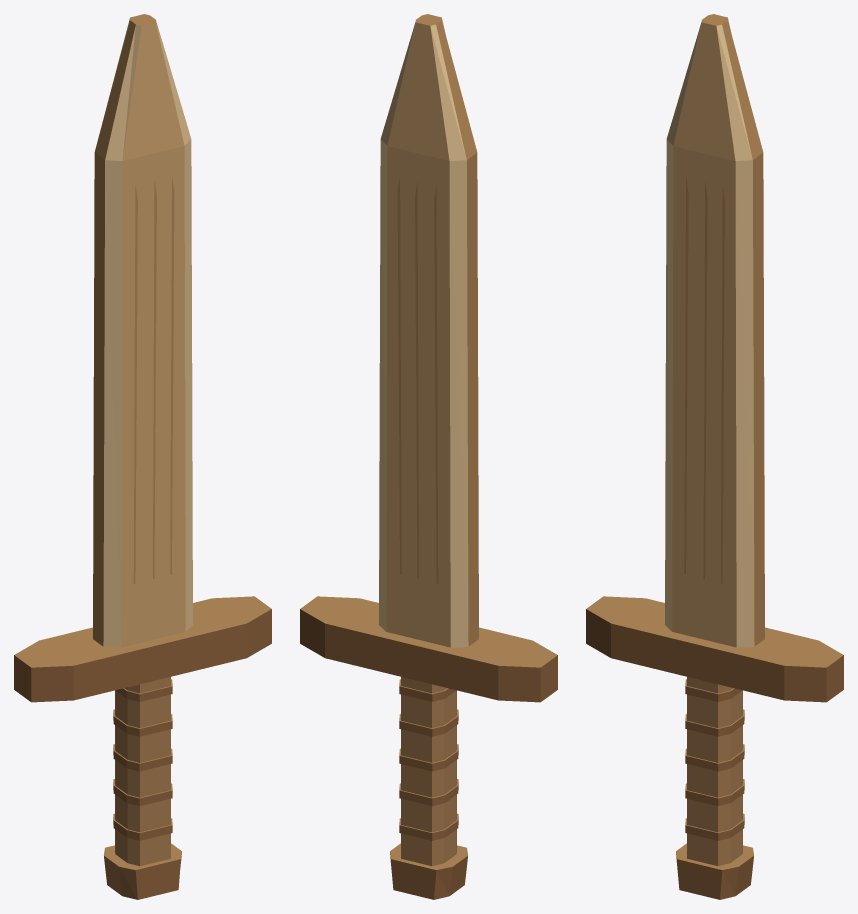
The model's file is wooden_sword.gltf.
3 renders of one model, left to right at view 1: azimuth 30°, elevation 25°; view 2: azimuth 150°, elevation 25°; view 3: azimuth 330°, elevation 25°, orthographic.
Parts seen in each view (by area): view 1: WoodenSword_GripPivot; view 2: WoodenSword_GripPivot; view 3: WoodenSword_GripPivot.
Part boxes in pixels (box(x1,y1,x2,y2)): WoodenSword_GripPivot: box(14, 14, 271, 899); WoodenSword_GripPivot: box(300, 14, 557, 899); WoodenSword_GripPivot: box(586, 14, 843, 899).
Size of the model in its own units: 0.29 by 0.995 by 0.072.
